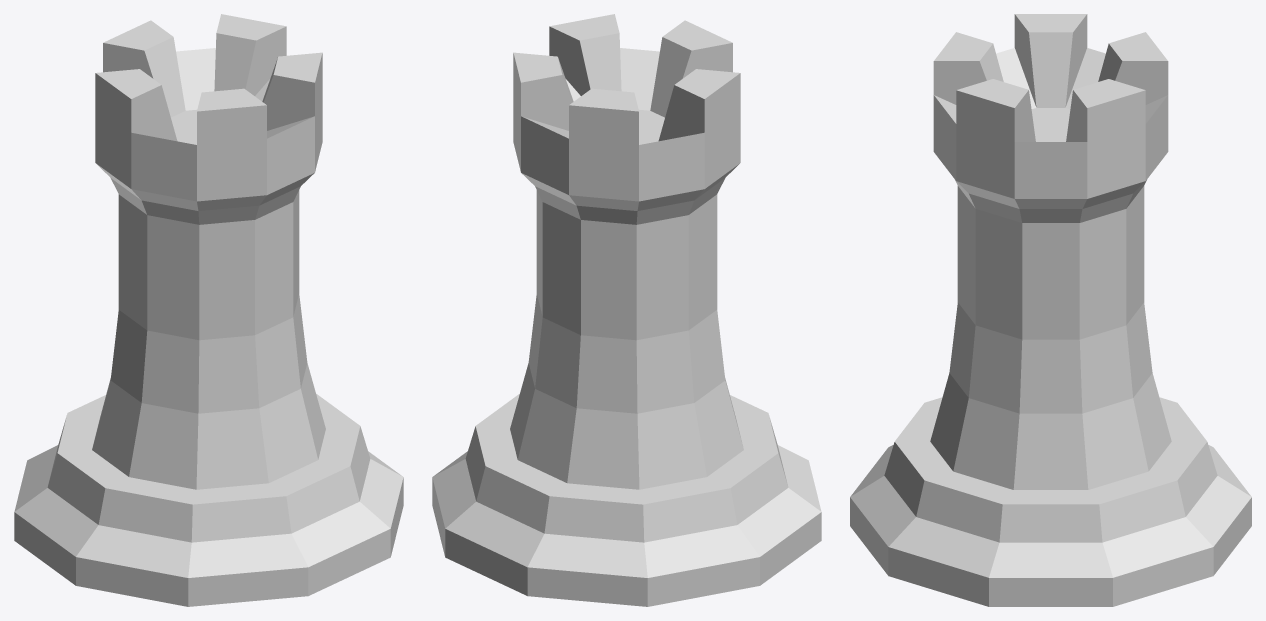
Rendered from rook.glb.
The picture shows the model from 3 angles, left to right: view 1: azimuth 30°, elevation 25°; view 2: azimuth 150°, elevation 25°; view 3: azimuth 270°, elevation 25°; orthographic projection.
Visible parts, largest first — view 1: rook; view 2: rook; view 3: rook.
Part boxes in pixels (<box>): rook: <box>14,14,403,606</box>; rook: <box>432,14,821,606</box>; rook: <box>850,14,1251,606</box>.
Size of the model in its own units: 0.0519 by 0.0697 by 0.0546.
1 material, 1 textured.
